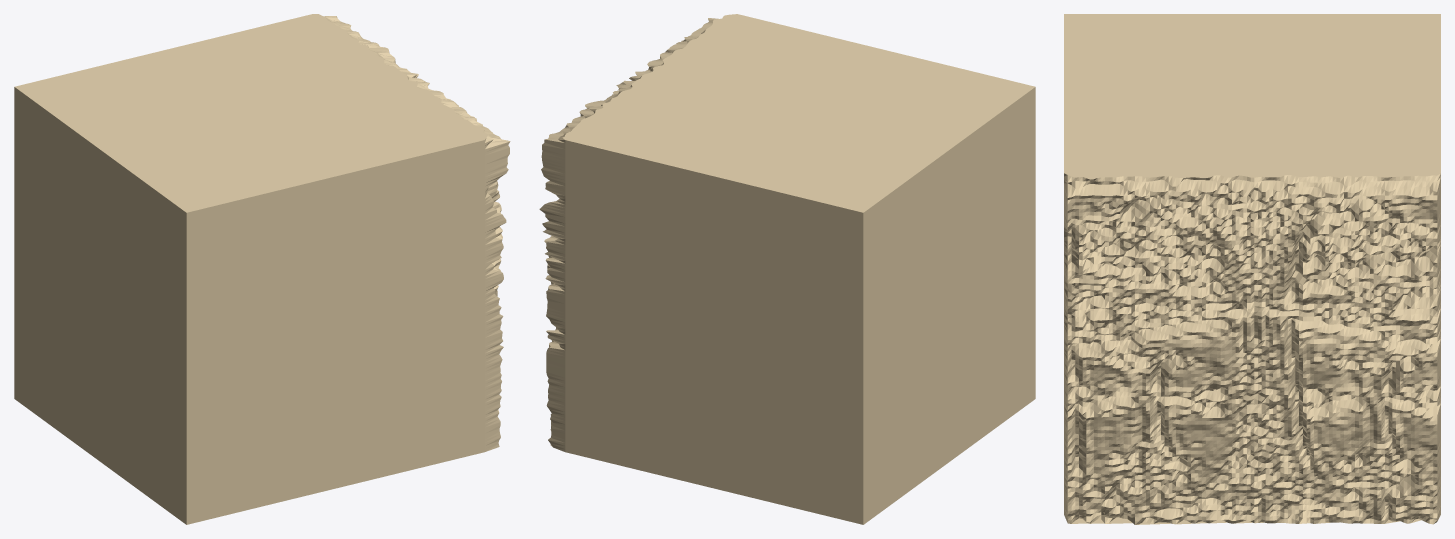
The model's file is cross6.png.obj.
3 views of the same model, side by side, from view 1: azimuth 30°, elevation 25°; view 2: azimuth 150°, elevation 25°; view 3: azimuth 270°, elevation 25° (orthographic). The views are drawn at different scales.
Visible parts, largest first — view 1: Cube; view 2: Cube; view 3: Cube.
Boxes of the visible parts, left/top/right/bottom form: Cube: left=14, top=14, right=510, bottom=524; Cube: left=539, top=14, right=1035, bottom=524; Cube: left=1064, top=14, right=1440, bottom=524.
Size of the model in its own units: 1.1 by 1 by 1.
